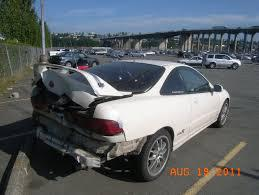bonnet-dent: (33, 125, 108, 160)
